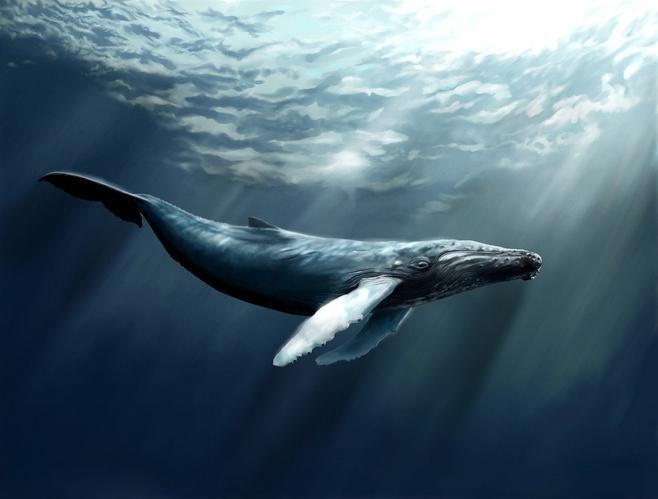fish: (39, 162, 550, 363)
